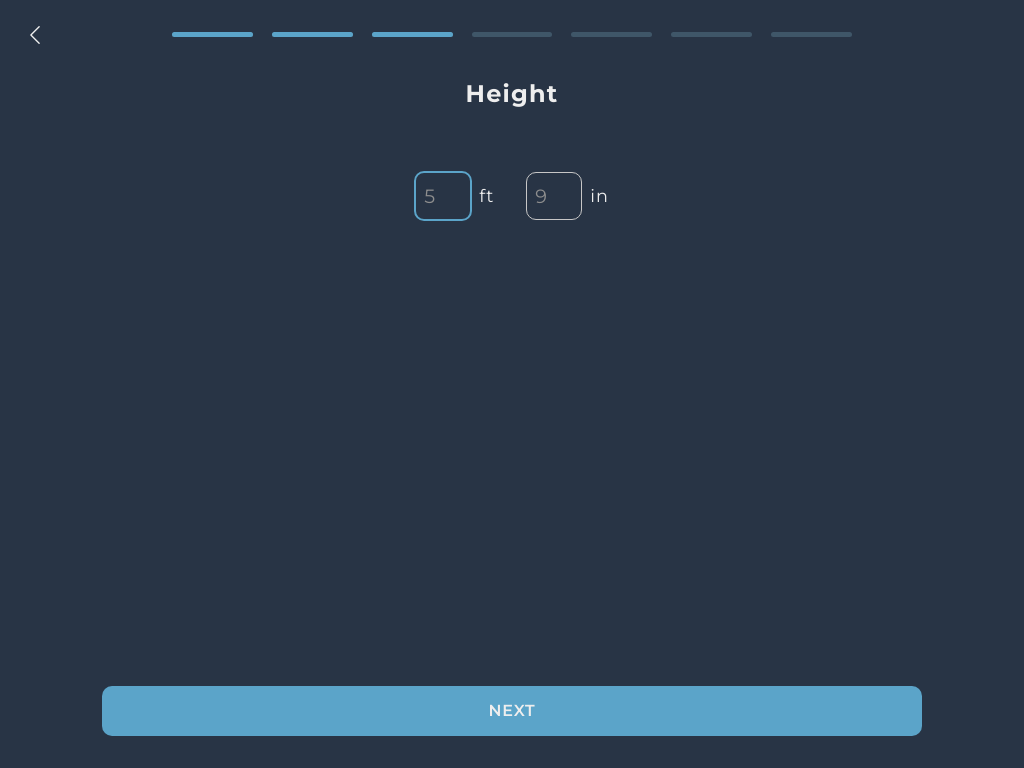
it: Height › Height inputs testing › Should not allow values over 11 in inches input
The width and height of the screenshot is (1024, 768).
Type "12" into the field with test id "inches" showing "9" at (554, 196), box [526,172,582,220]
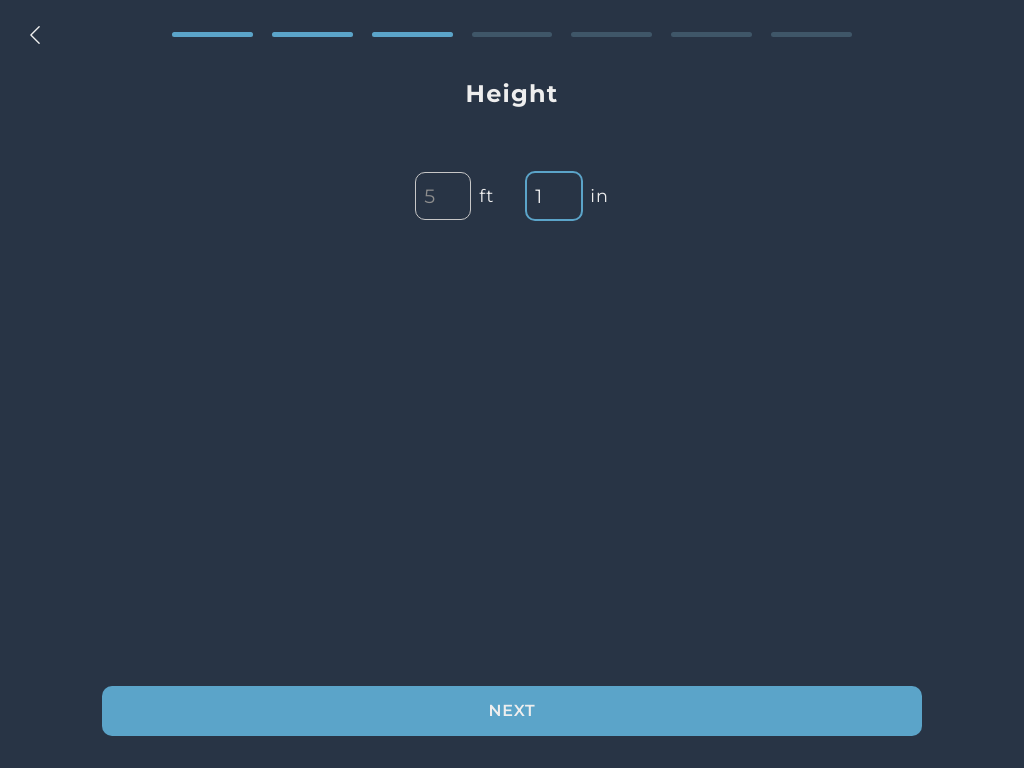
Expected: the field with test id "inches" holds "1", [525,171,583,221]
